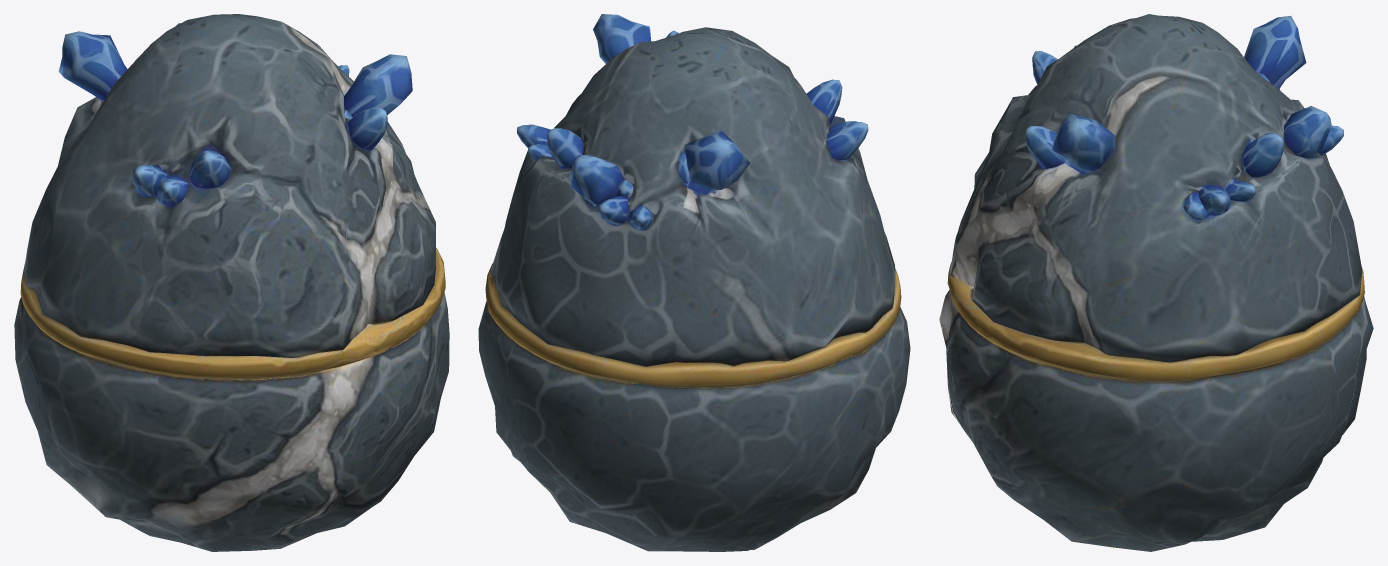
Rendered from cache_stone.glb.
The picture shows the model from 3 angles, left to right: view 1: azimuth 30°, elevation 25°; view 2: azimuth 150°, elevation 25°; view 3: azimuth 270°, elevation 25°; orthographic projection. The views are drawn at different scales.
Size of the model in its own units: 0.7937 by 0.9999 by 0.78.
1 material, 1 textured.
